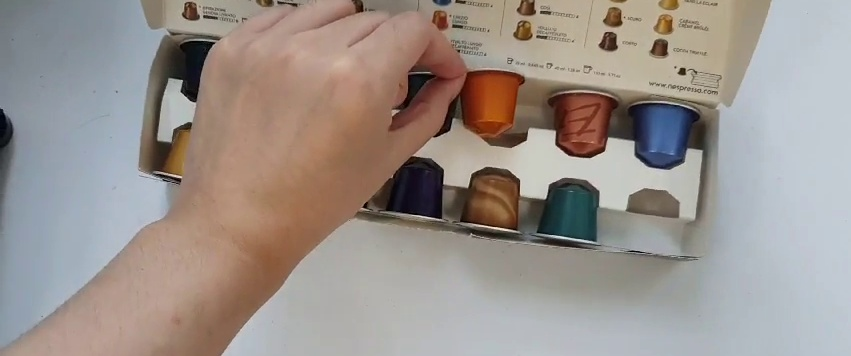capsule_5: (453, 63, 527, 140)
